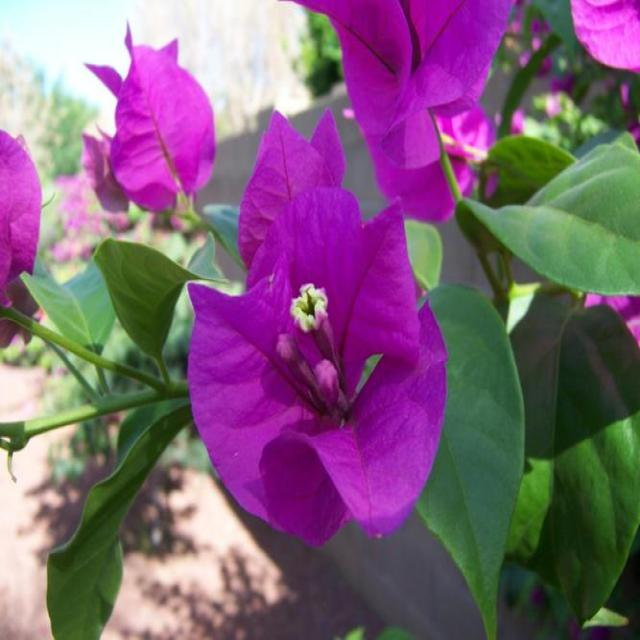bougainvillea: (38, 40, 635, 613)
